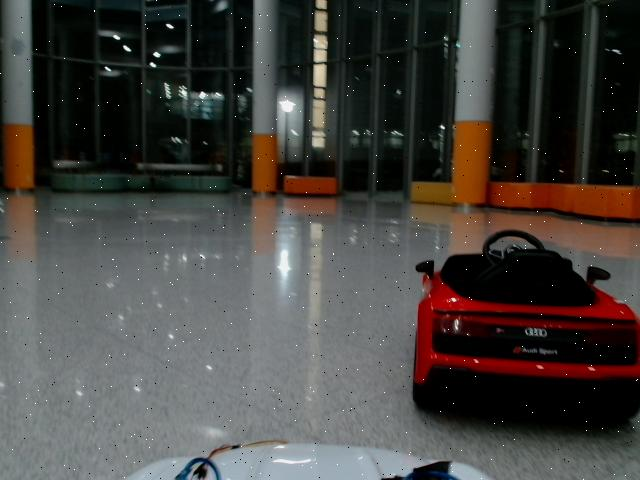car: (412, 229, 640, 418)
